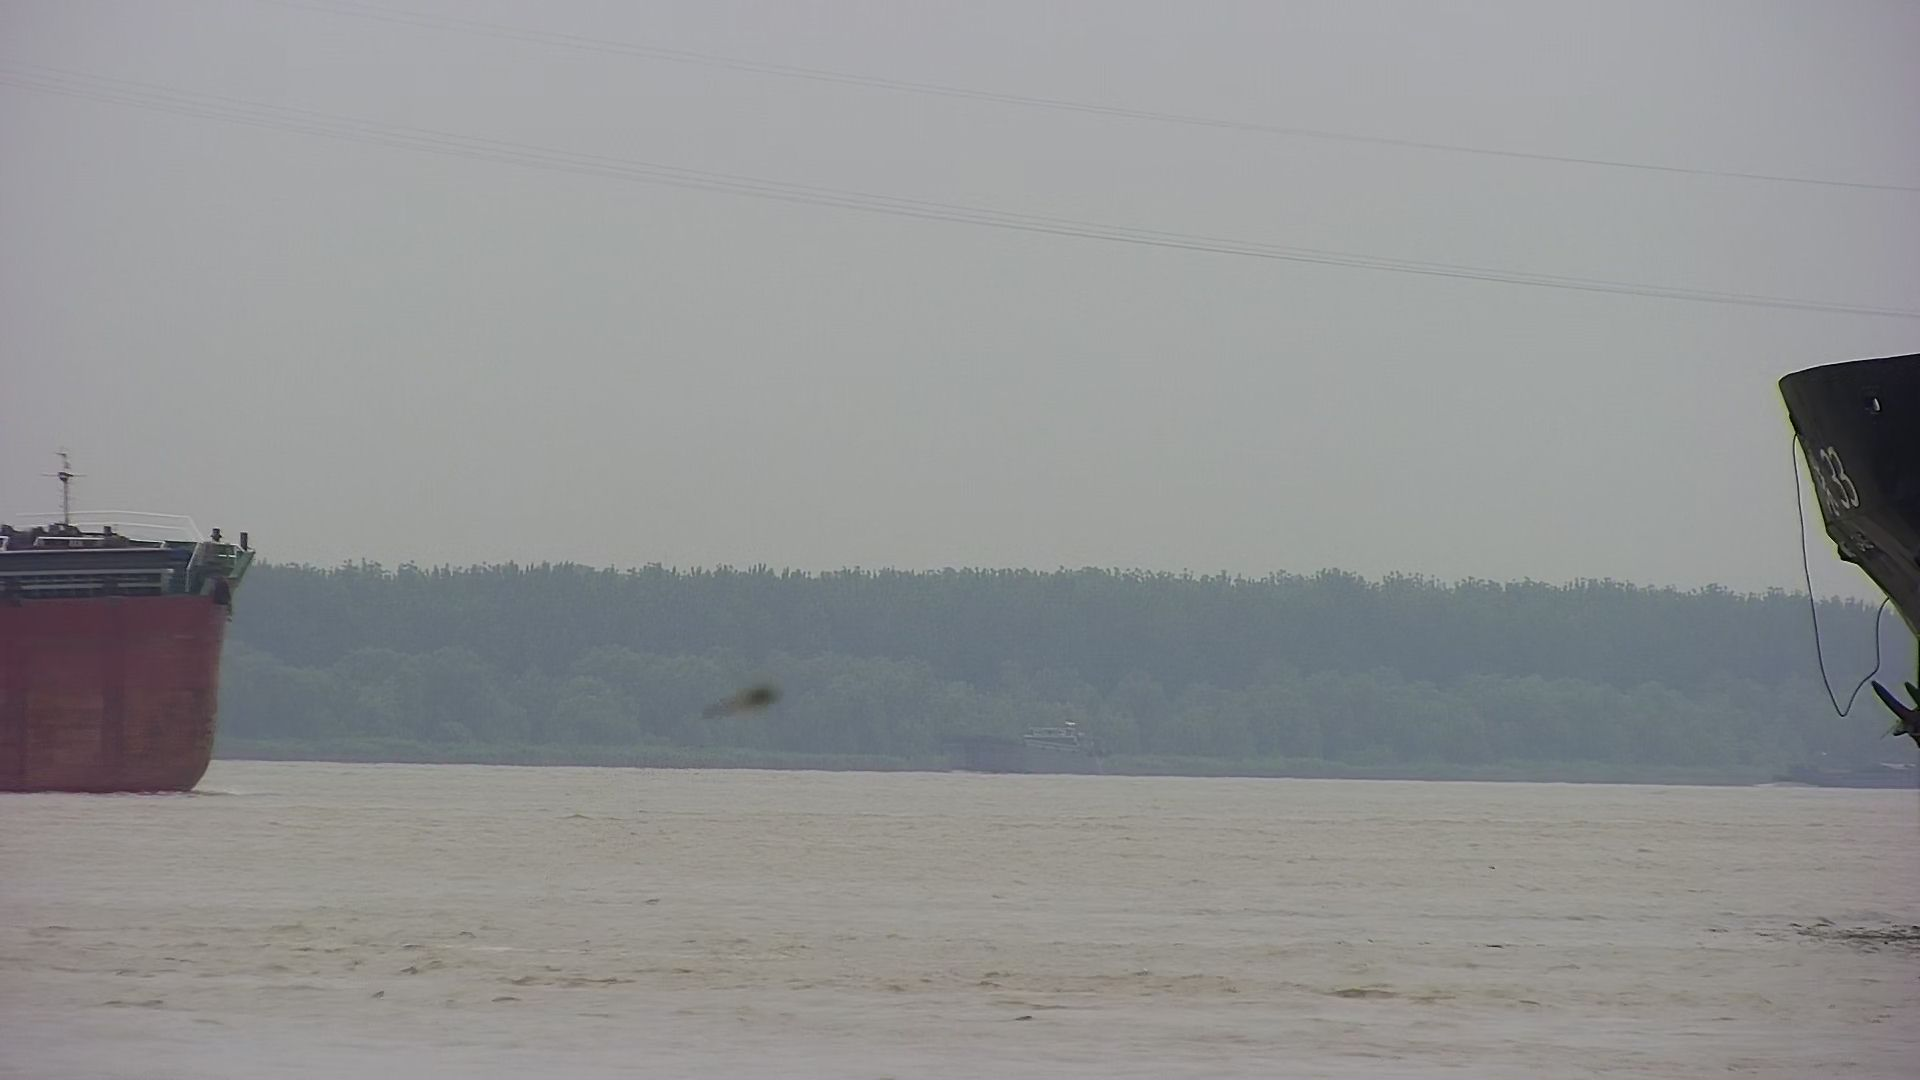ship: (1741, 324, 1920, 956), (1, 444, 257, 794)
